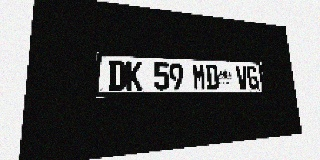5: (154, 62, 169, 90)
9: (169, 63, 184, 90)
D: (108, 60, 125, 91), (205, 64, 219, 90)
G: (246, 66, 259, 89)
K: (126, 61, 142, 91)
M: (192, 64, 206, 90)
V: (235, 65, 249, 89)
